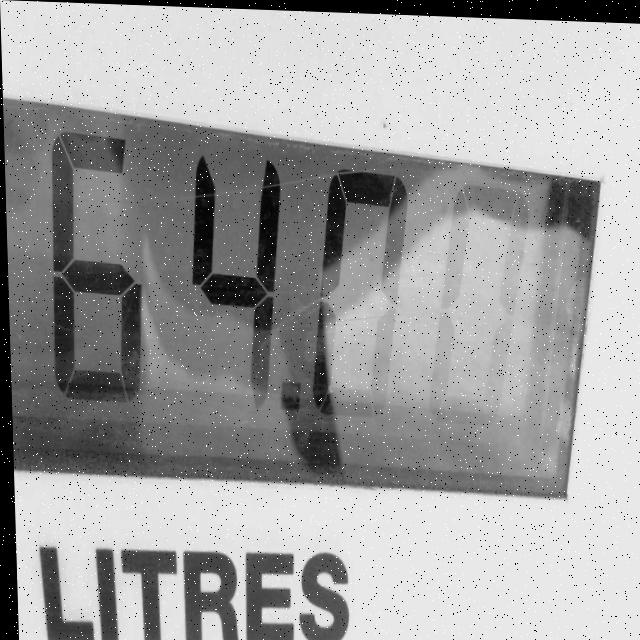.: (267, 359, 304, 428)
0: (412, 149, 536, 439), (311, 143, 423, 426)
6: (37, 108, 162, 437), (175, 144, 306, 431)
